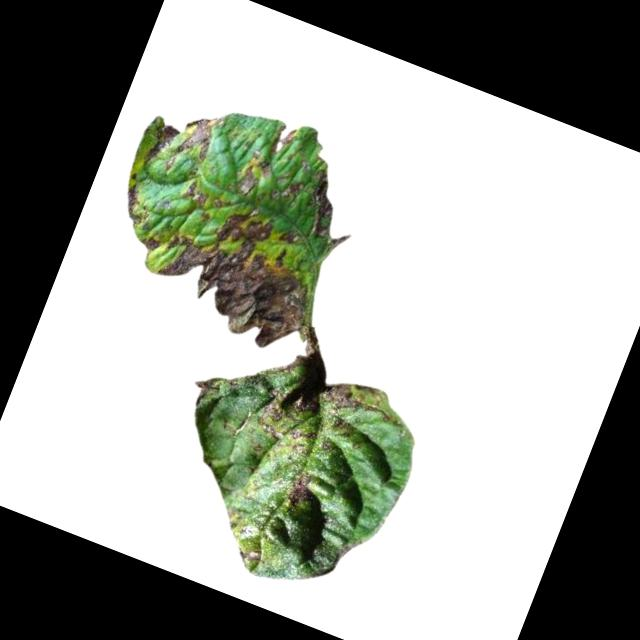Early_blight: (140, 183, 334, 360), (245, 353, 398, 481), (294, 167, 371, 250), (172, 107, 223, 169), (138, 119, 180, 172), (115, 171, 147, 221), (268, 169, 307, 210), (284, 469, 320, 513), (265, 119, 301, 160), (231, 161, 262, 199), (179, 177, 212, 208), (137, 233, 160, 253), (254, 159, 275, 179), (242, 548, 262, 568)
